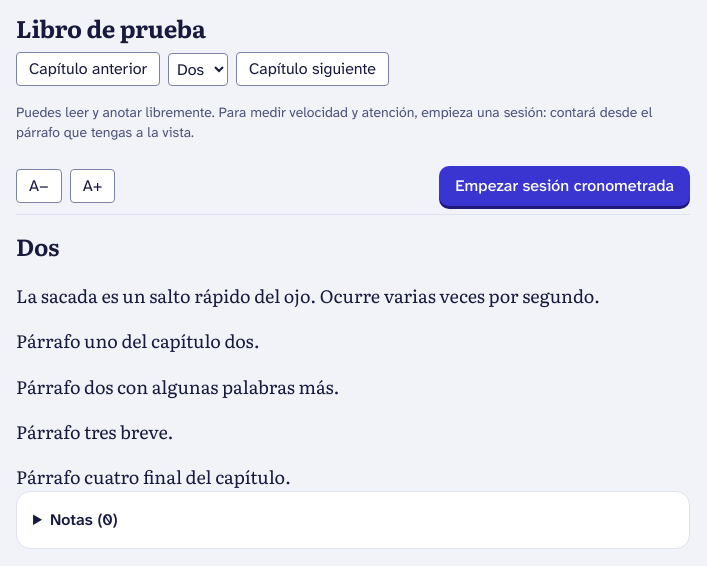
Test case: DocumentReaderPage › sugiere la velocidad del marcapasos según tus lecturas con buena comprensión
Expected: the heading "Dos" is shown, x1=16 y1=228 x2=59 y2=263
What coordinates should you click on to do the following:
click the button "Empezar sesión cronometrada"
I would click on:
 (565, 186)
Its box is x1=439 y1=166 x2=690 y2=206.
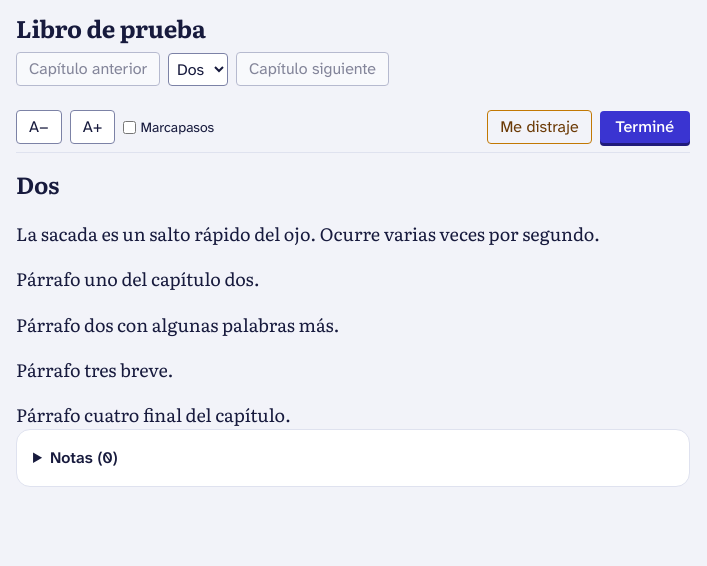
What coordinates should you click on to do the following:
click the checkbox labelled "Marcapasos"
I would click on:
 (130, 127)
Its box is x1=124 y1=120 x2=136 y2=134.
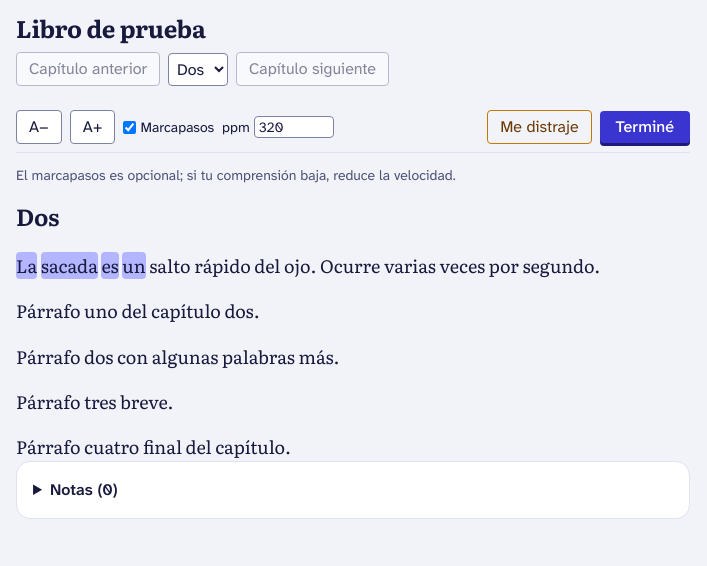
Expected: the number field showing "320" is shown, x1=254 y1=116 x2=334 y2=138
